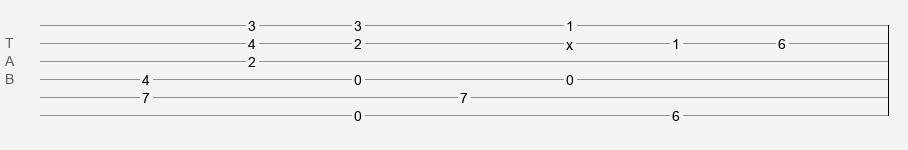0: (354, 72, 362, 82), (354, 108, 362, 118), (566, 72, 574, 82)
1: (566, 18, 574, 28), (672, 36, 680, 46)
2: (248, 54, 256, 64), (354, 36, 362, 46)
3: (248, 18, 256, 28), (354, 18, 362, 28)
4: (142, 72, 150, 82), (248, 36, 256, 46)
6: (672, 108, 680, 118), (778, 36, 786, 46)
7: (142, 90, 150, 100), (460, 90, 468, 100)
x: (566, 37, 573, 45)
